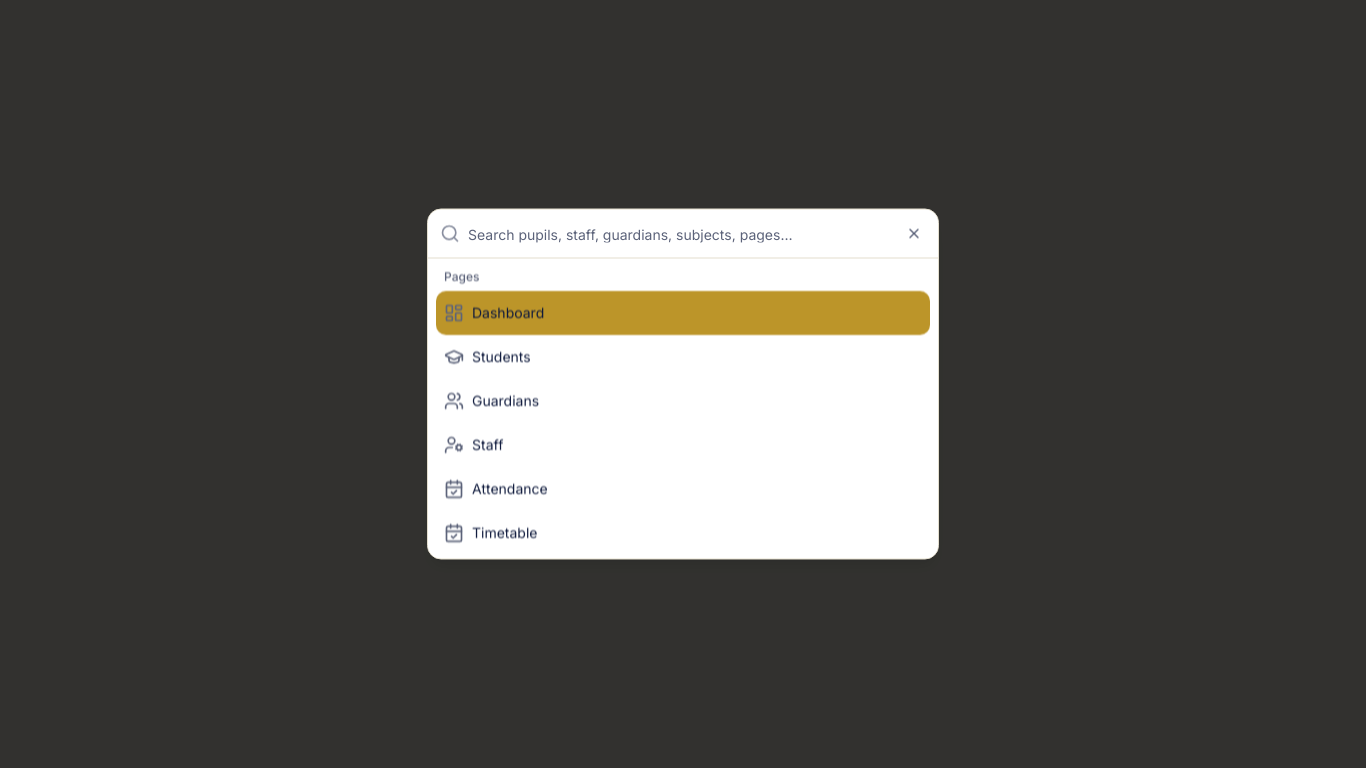
Test: CommandPalette › still finds pages by title
In the dropdown with placeholder "Search pupils, staff, guardians, subjects, pages…": (697, 234) top-left (468, 210), bottom-right (926, 258), type "fee sch"
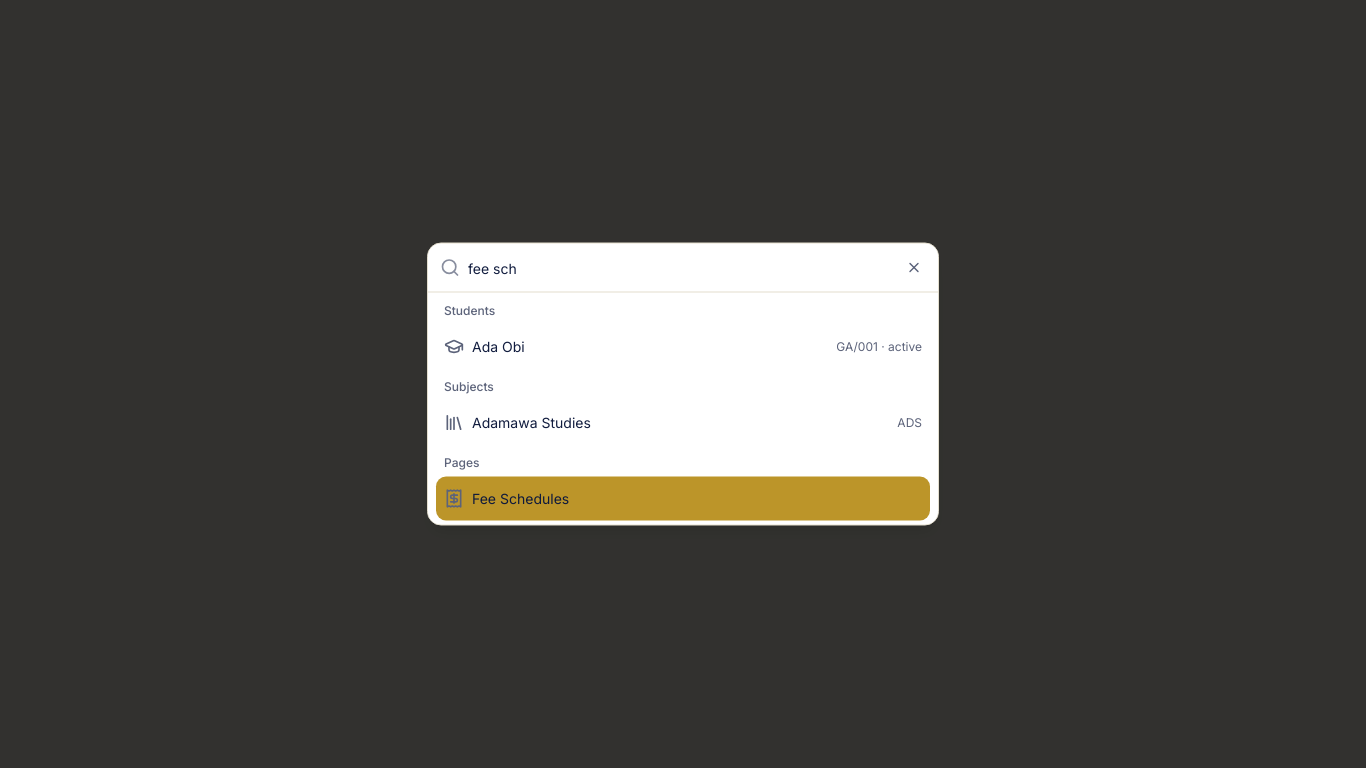
Expected: the text "Fee Schedules" is shown, top-left (472, 488), bottom-right (569, 508)
